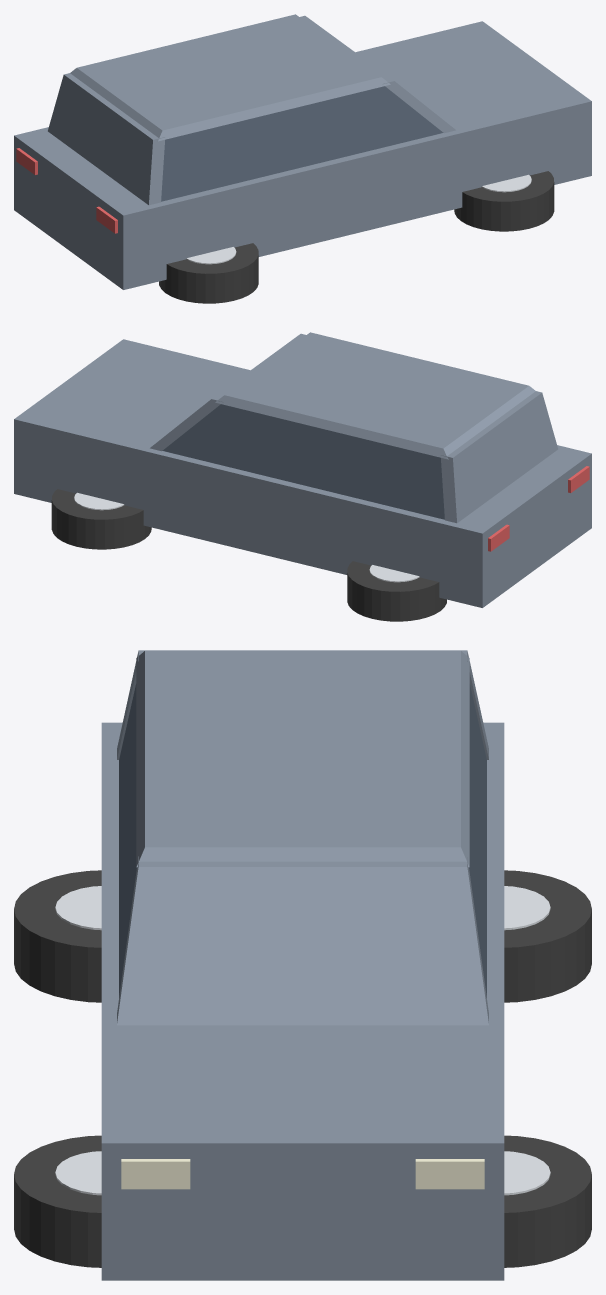
The model's file is mazda_cx-5.glb.
3 views of the same model, one above another, from view 1: azimuth 30°, elevation 25°; view 2: azimuth 150°, elevation 25°; view 3: azimuth 270°, elevation 25° (orthographic). The views are drawn at different scales.
Parts seen in each view (by area): view 1: geometry_0, geometry_2, geometry_1, geometry_4, geometry_5, geometry_9, geometry_3, geometry_10, geometry_6; view 2: geometry_0, geometry_2, geometry_1, geometry_4, geometry_7, geometry_11, geometry_3, geometry_12, geometry_8; view 3: geometry_0, geometry_2, geometry_3, geometry_9, geometry_11, geometry_5, geometry_7, geometry_1, geometry_13, geometry_15, geometry_6, geometry_8 (+3 smaller).
Part boxes in pixels (x1,y1,x2,y2): geometry_0: (14,21,591,289); geometry_2: (70,14,390,141); geometry_1: (161,86,443,201); geometry_4: (48,73,164,205); geometry_5: (454,171,554,231); geometry_9: (159,243,258,303); geometry_3: (300,15,455,133); geometry_10: (186,247,236,264); geometry_6: (481,174,531,192); geometry_0: (14,339,591,607); geometry_2: (215,332,535,459); geometry_1: (162,404,444,519); geometry_4: (441,391,557,523); geometry_7: (51,489,151,549); geometry_11: (347,561,446,621); geometry_3: (150,333,305,451); geometry_12: (369,565,419,582); geometry_8: (74,492,124,510); geometry_0: (101,722,504,1280); geometry_2: (136,650,469,867); geometry_3: (117,856,488,1025); geometry_9: (14,870,101,1002); geometry_11: (504,870,591,1002); geometry_5: (14,1135,101,1267); geometry_7: (504,1135,591,1267); geometry_1: (119,684,486,997); geometry_13: (121,1159,190,1189); geometry_15: (415,1159,484,1189); geometry_6: (55,1151,101,1195); geometry_8: (504,1151,550,1195).
Size of the model in its own units: 4.66 by 1.44 by 2.67.
